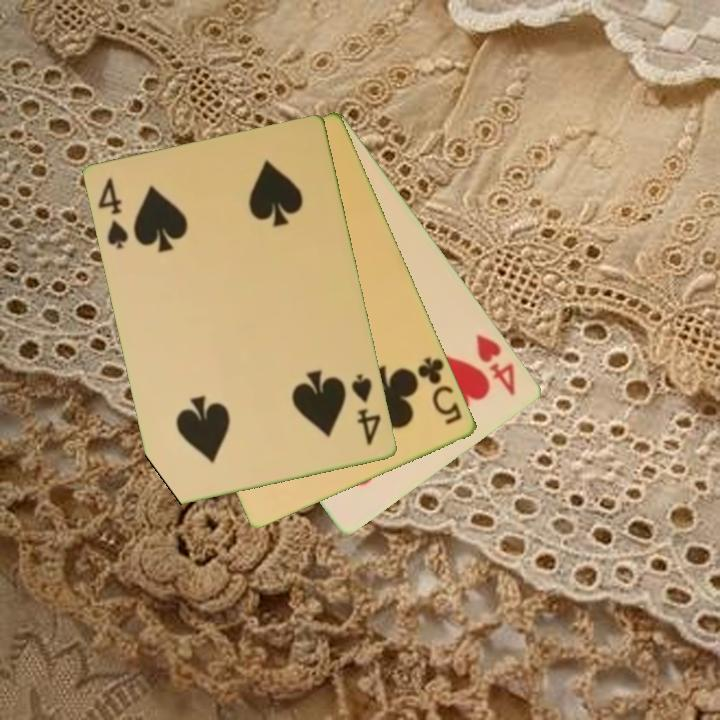4h: (473, 330, 519, 399)
4s: (95, 175, 132, 253), (348, 370, 384, 449)
5c: (414, 353, 466, 428)
